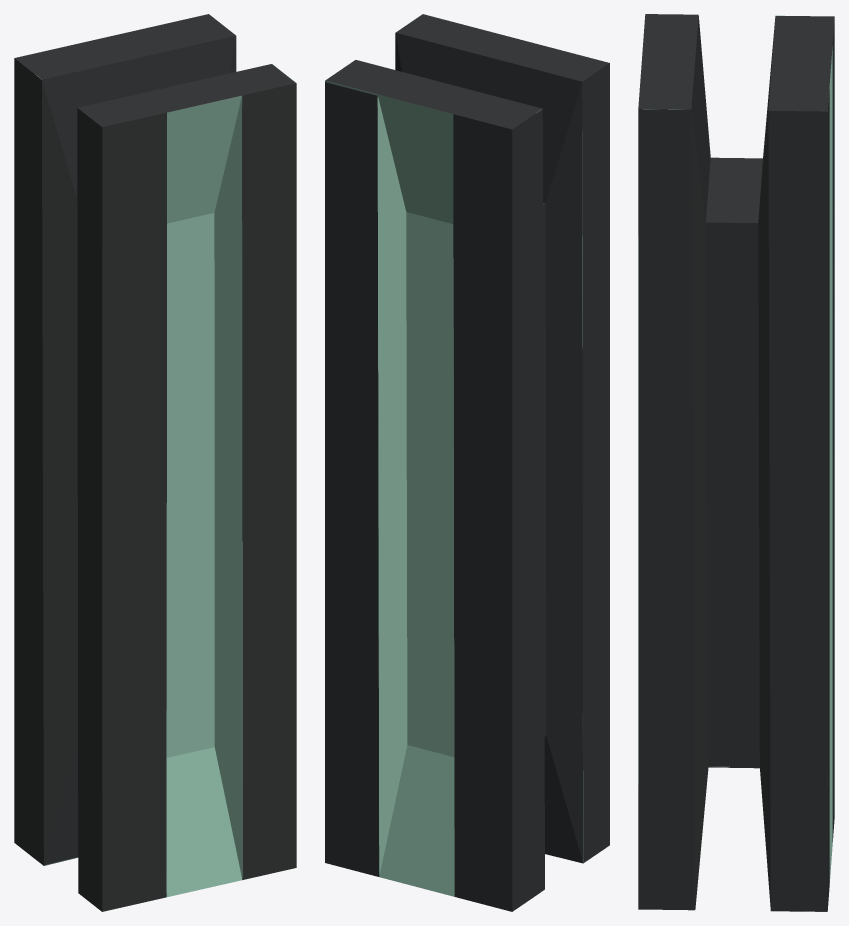
Rendered from FencePivotBlackTexture.fbx.
3 views of the same model, side by side, from view 1: azimuth 30°, elevation 25°; view 2: azimuth 150°, elevation 25°; view 3: azimuth 270°, elevation 25° (orthographic). The views are drawn at different scales.
Visible parts, largest first — view 1: pCube1; view 2: pCube1; view 3: pCube1.
Part boxes in pixels (box(x1,y1,x2,y2)): pCube1: box(14, 14, 296, 911); pCube1: box(325, 14, 609, 911); pCube1: box(638, 14, 834, 911).
Bounding box in the file's own units: 0.2869 × 1.1 × 0.2441.
Materials: 1 (1 with a texture image).
